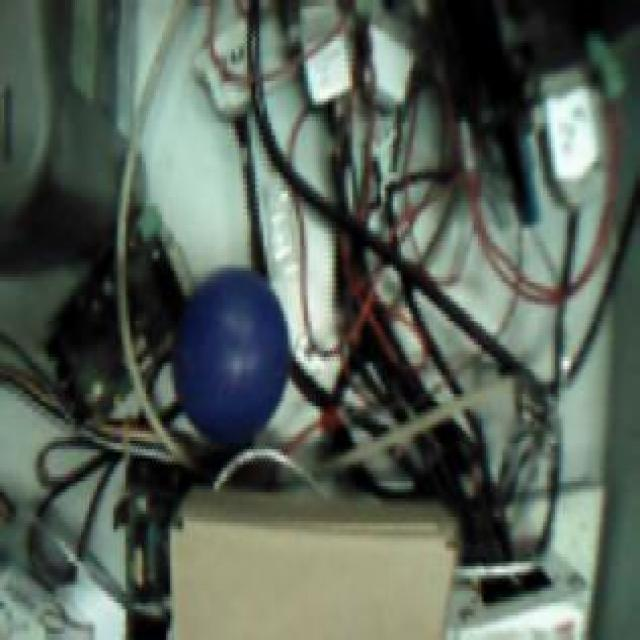BallPurple: (174, 267, 289, 436)
